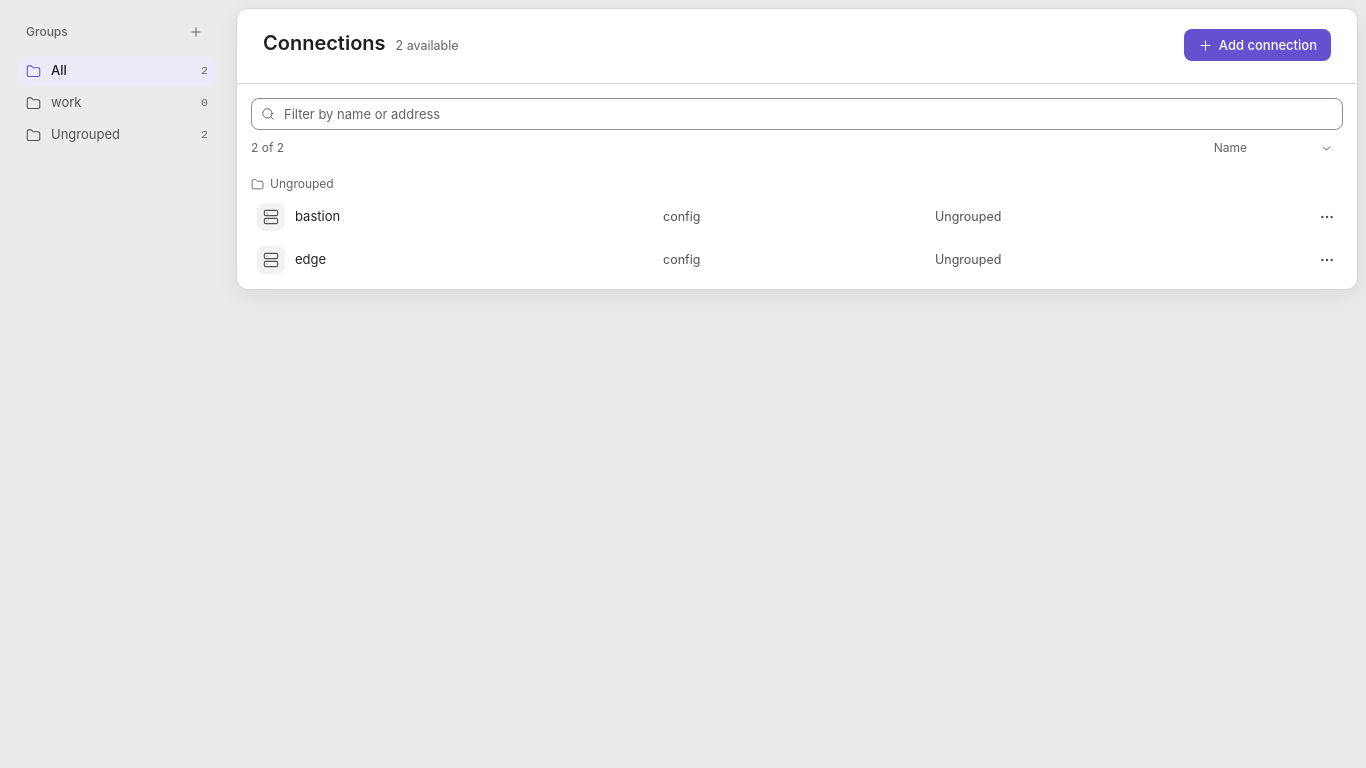
it: ConnectionsPage › acting on several chosen connections › sends both connections and their shared file once, and keeps them chosen when the save is refused
Click the button "bastion config Ungrouped".
click(318, 216)  # box [243,196,1351,238]
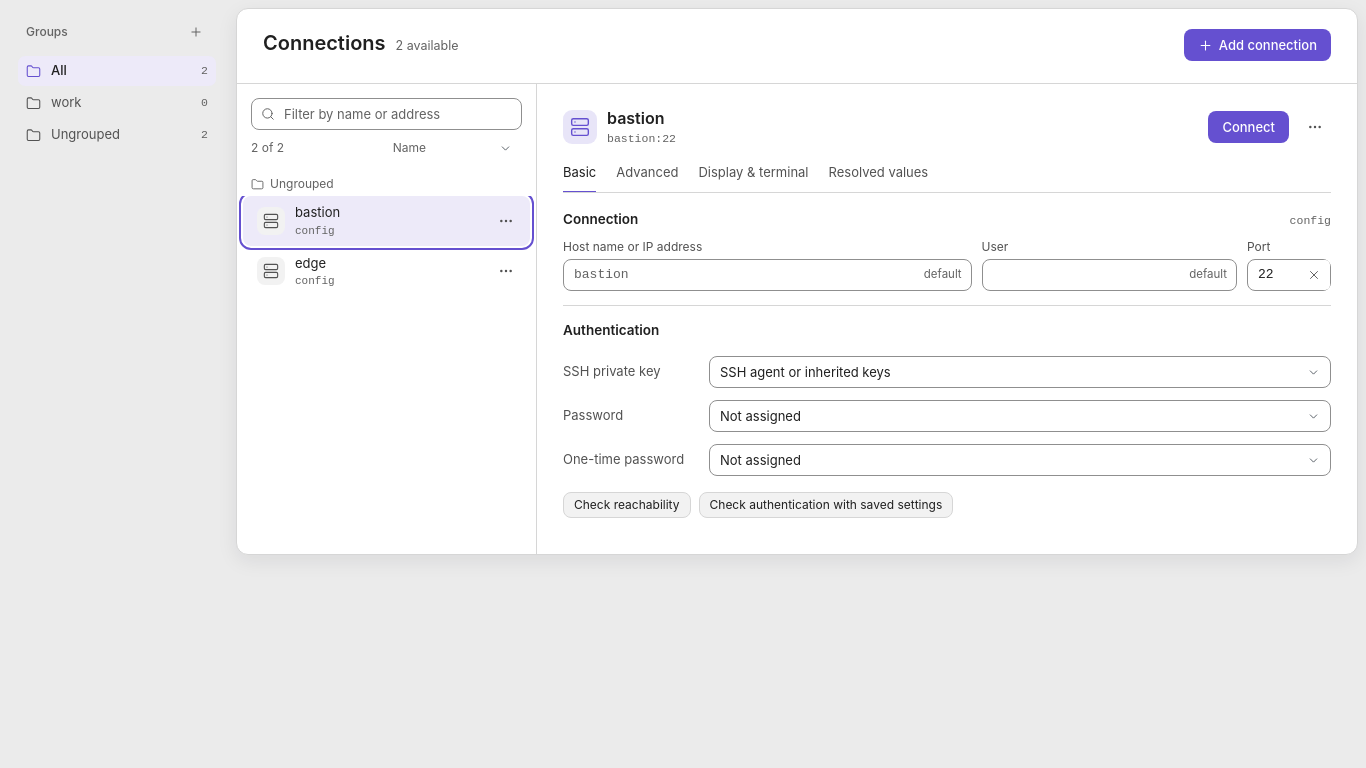
Click the button "edge config".
click(311, 262)  # box [243,246,530,296]
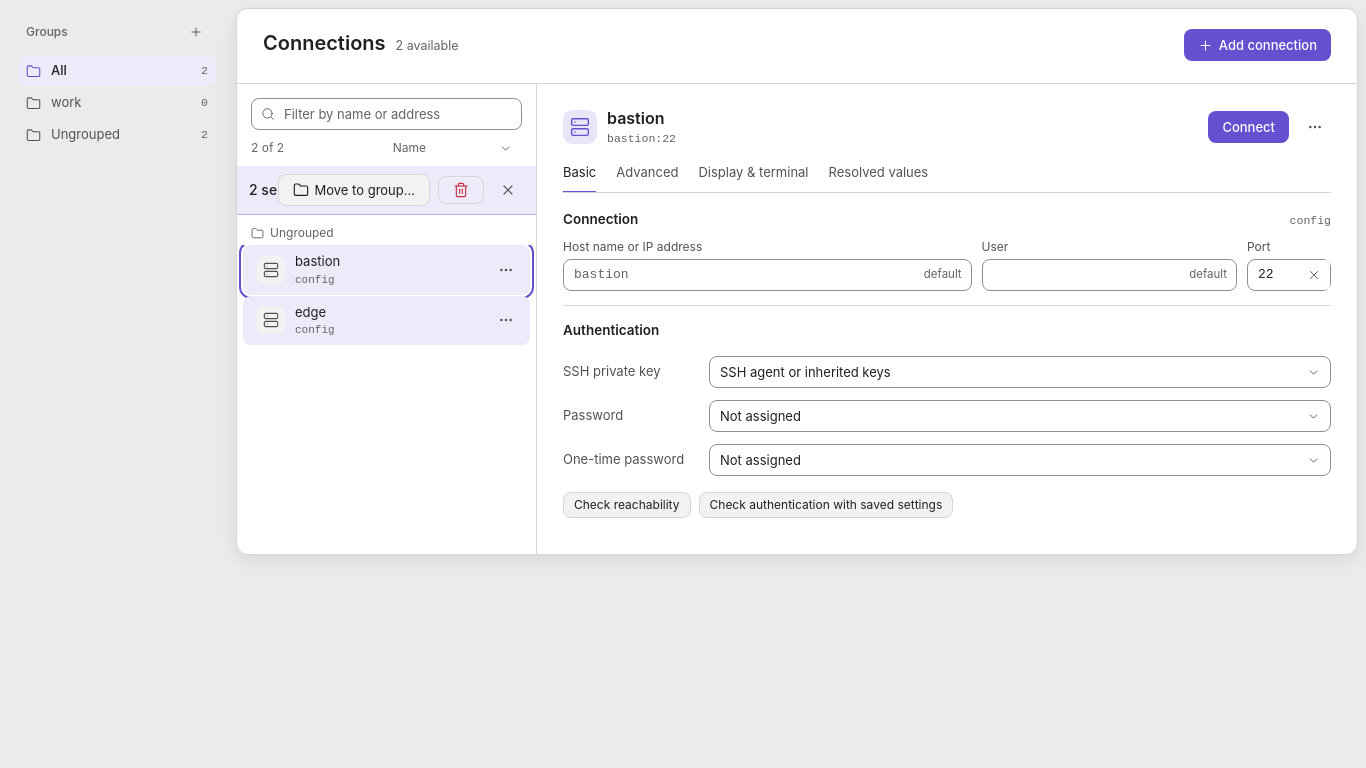
Click the button "Move to group…".
click(354, 190)  # box [278,174,430,206]
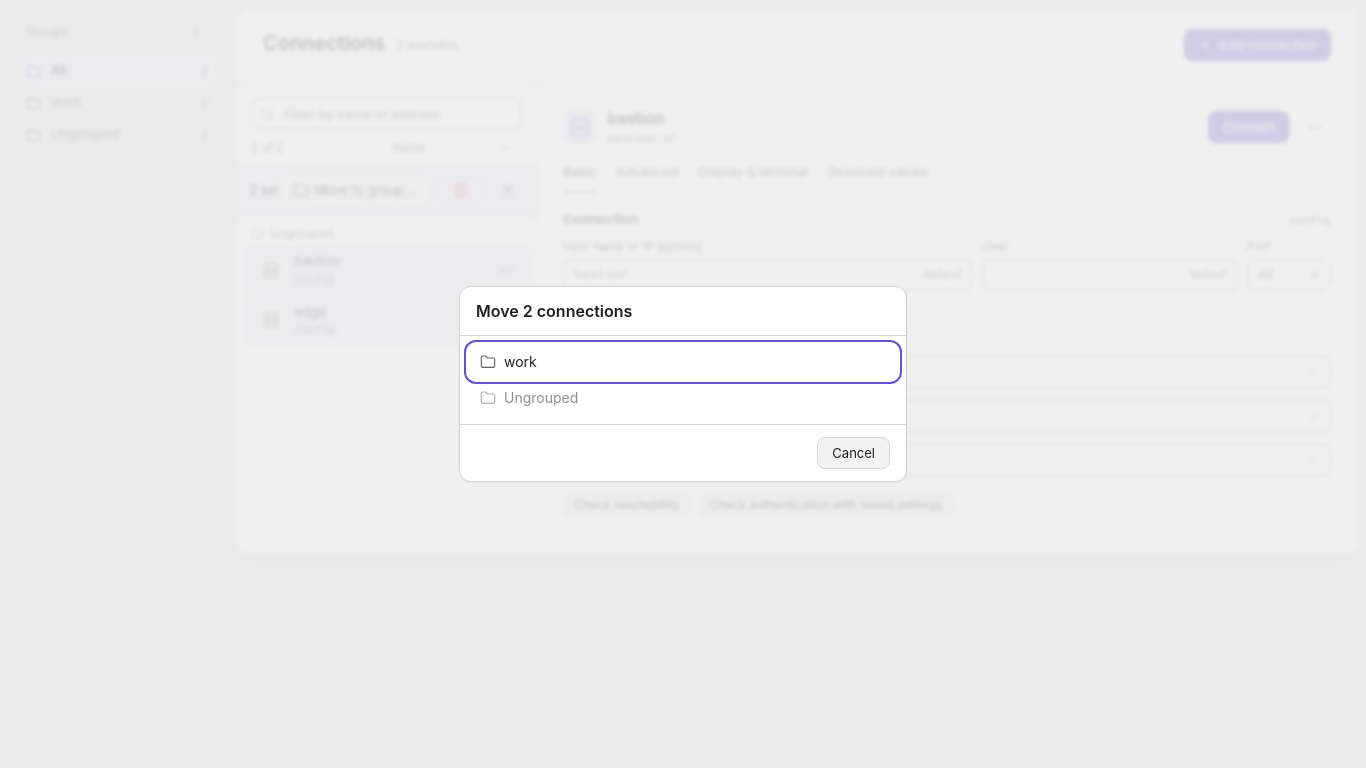
Click the button "work".
click(520, 362)  # box [468,344,898,380]
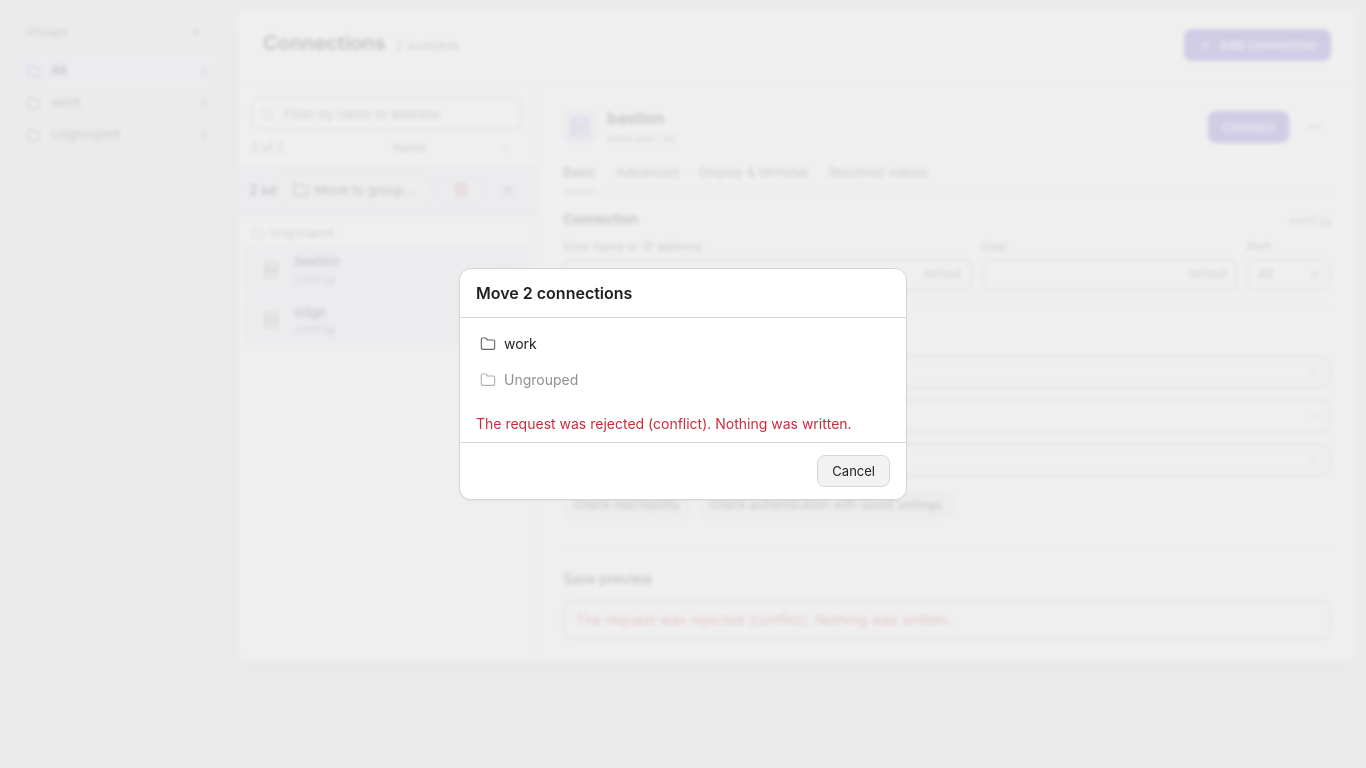
Now the button "work" is enabled, box [468,326,898,362]
Now the message "The request was rejected (conflict). Nothing was written." is not empty, box [476,415,852,432]
